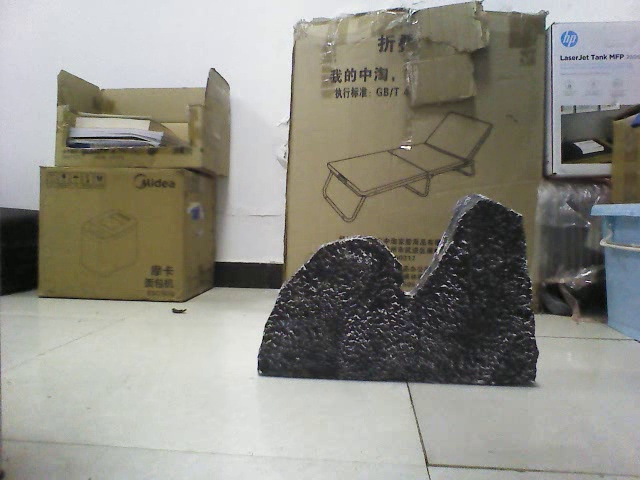rock: (253, 191, 547, 390)
